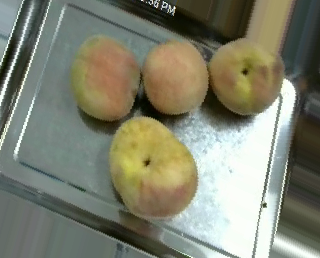Peach: (109, 116, 197, 218), (208, 28, 283, 115), (69, 34, 140, 121), (141, 38, 210, 114)
